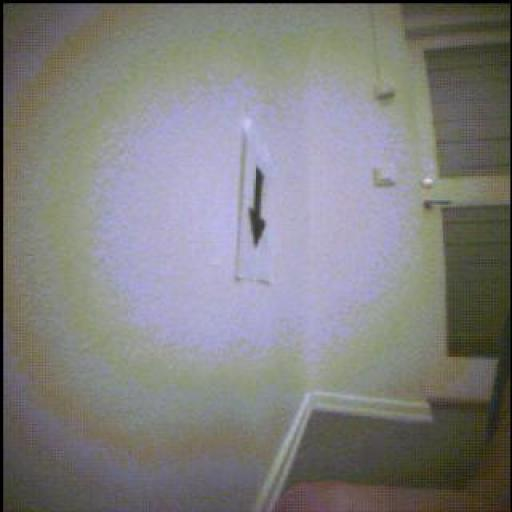arrow: (251, 169, 267, 247)
